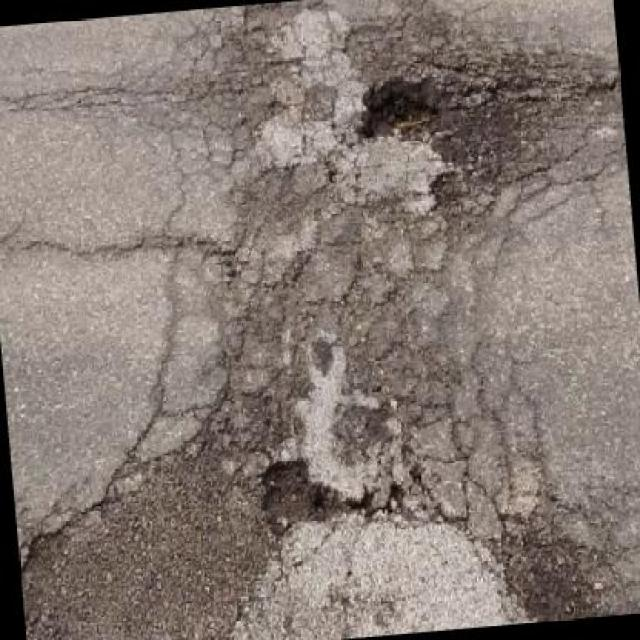pothole1: (352, 67, 446, 145), (256, 451, 330, 542)
